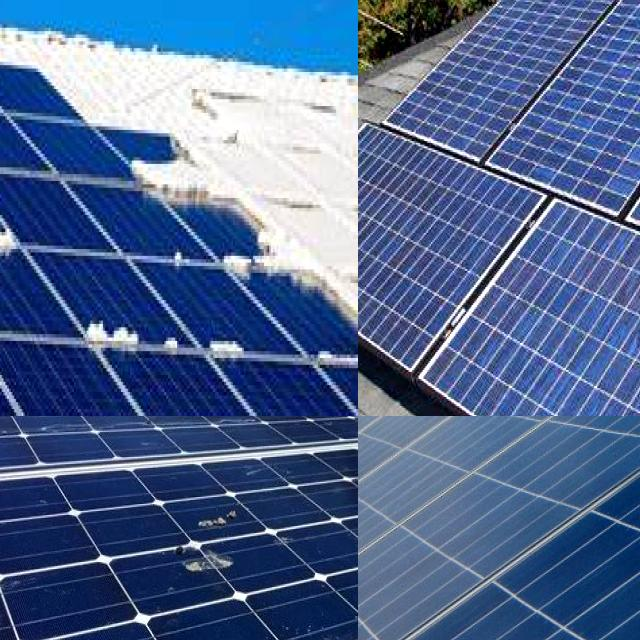bird: (172, 500, 252, 532), (170, 551, 254, 580)
crack: (498, 234, 640, 416), (358, 146, 449, 332), (589, 29, 640, 142), (494, 0, 557, 87)
panel: (47, 38, 192, 138), (131, 133, 237, 209), (0, 0, 115, 67), (215, 72, 316, 142), (216, 232, 310, 300), (71, 303, 184, 356), (294, 147, 358, 223), (447, 416, 563, 451), (0, 337, 48, 416), (570, 416, 640, 463), (206, 306, 252, 368), (0, 276, 45, 339), (315, 328, 358, 393), (0, 65, 46, 123), (0, 239, 27, 327), (358, 416, 435, 439), (335, 234, 358, 306), (0, 205, 26, 265), (0, 70, 18, 141), (358, 416, 416, 431)
